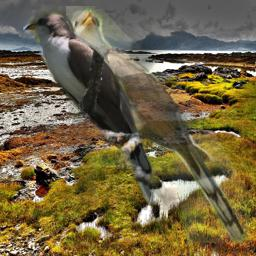Cuckoo: (66, 6, 250, 243), (23, 12, 170, 206)
